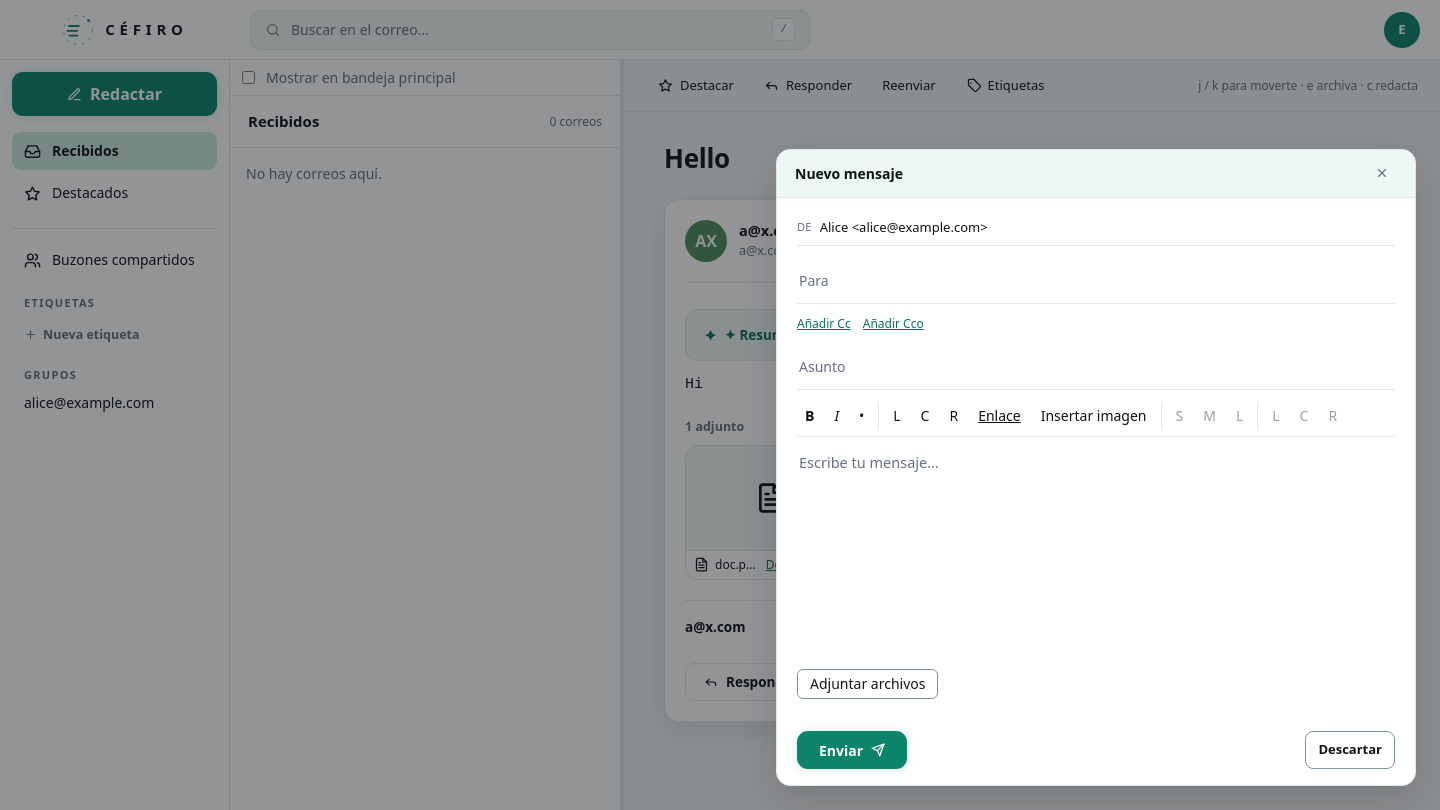
Test: composer wiring › opens the composer at compose=new and removes the param on Cancel
The image size is (1440, 810).
Click the button "Descartar" at (1350, 750), box [1305,731,1395,769]
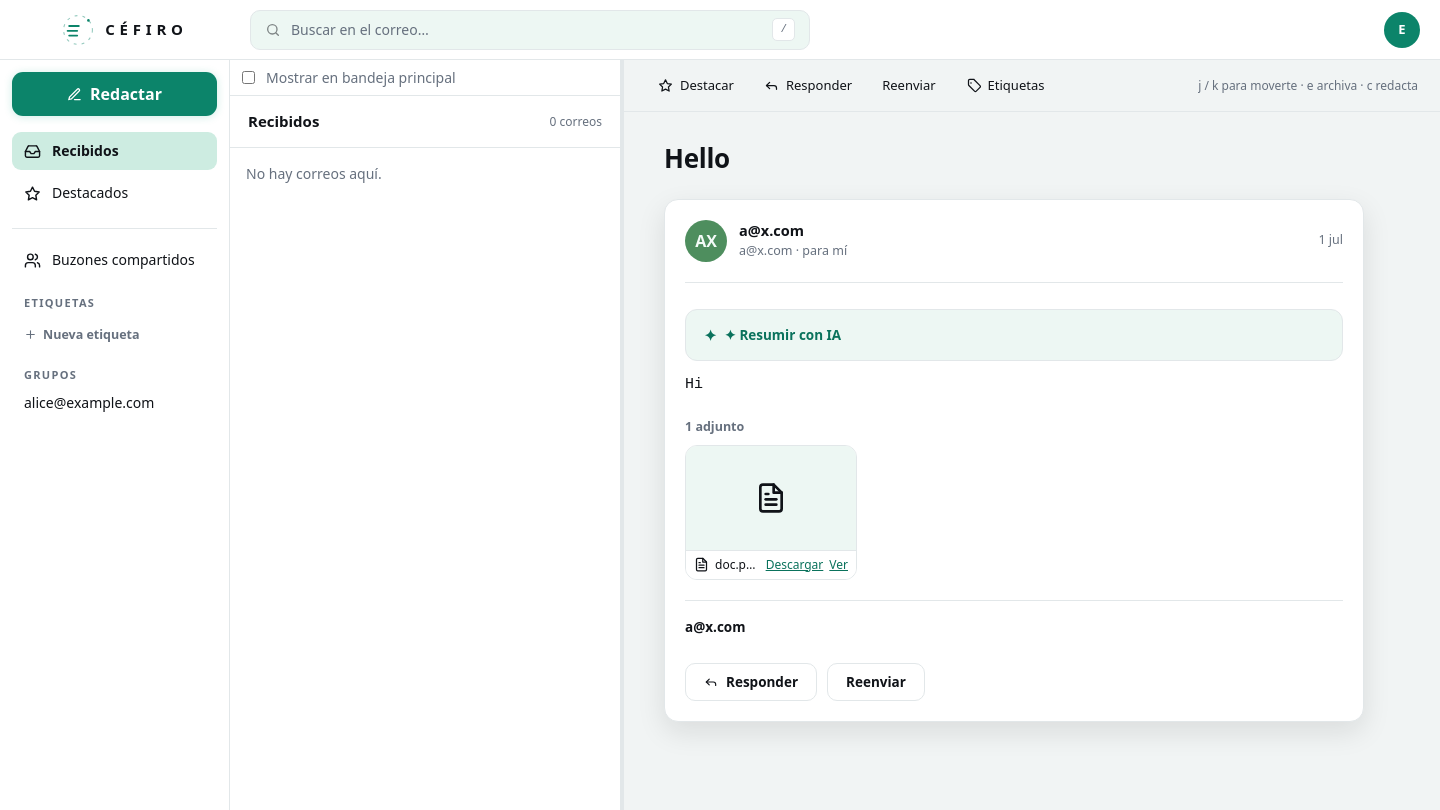
Now the heading "Nuevo mensaje" is gone
